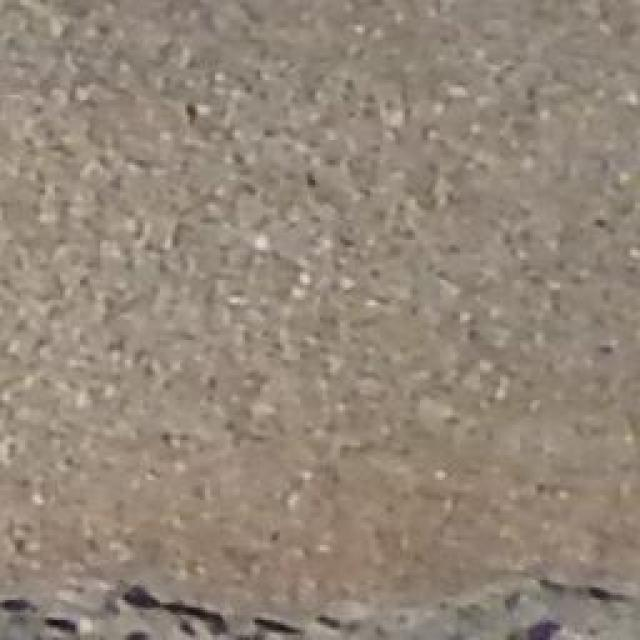concrete-crack: (0, 569, 638, 640)
